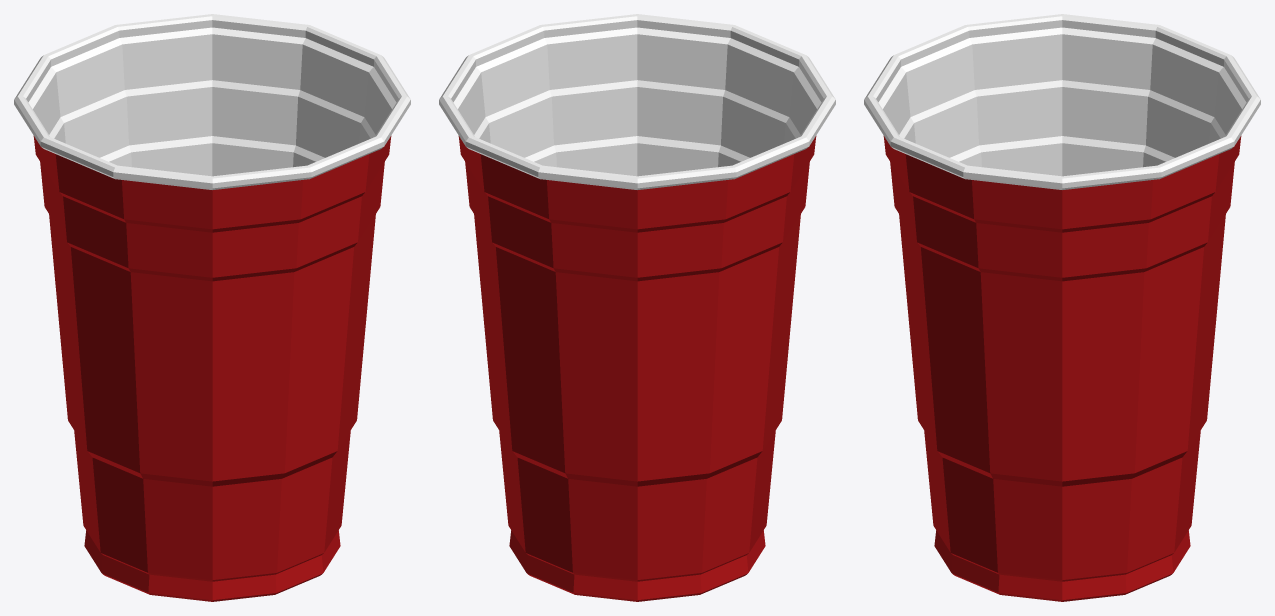
File: Disposable-Plastic-Cup-1 1.fbx
3 views of the same model, side by side, from view 1: azimuth 30°, elevation 25°; view 2: azimuth 150°, elevation 25°; view 3: azimuth 270°, elevation 25° (orthographic).
Parts seen in each view (by area): view 1: DisposablePlasticCup1; view 2: DisposablePlasticCup1; view 3: DisposablePlasticCup1.
Boxes of the visible parts, x1,y1,x2,y2 form: DisposablePlasticCup1: [14, 14, 410, 601]; DisposablePlasticCup1: [439, 14, 835, 601]; DisposablePlasticCup1: [864, 14, 1260, 601].
Bounding box in the file's own units: 0.0988 × 0.1245 × 0.0988.
